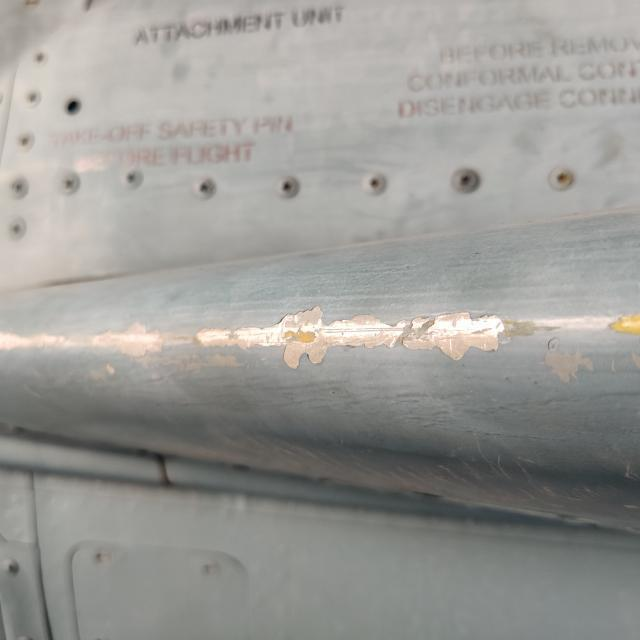Paint-off: (194, 308, 528, 369)
